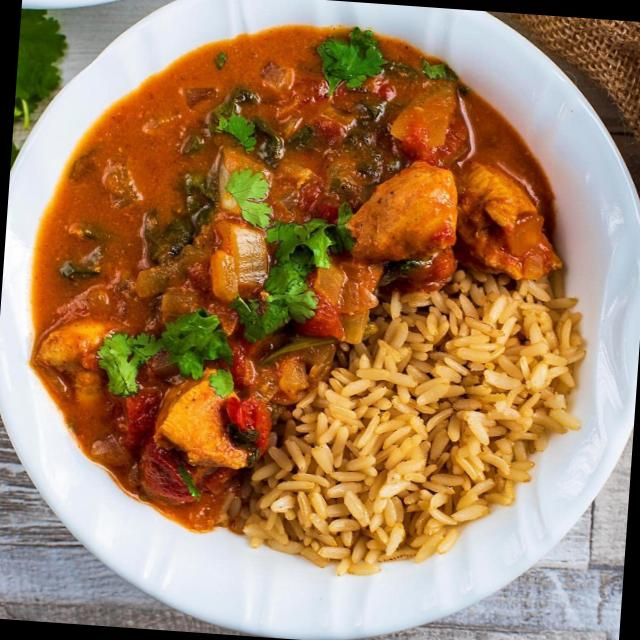chicken: (25, 3, 502, 470)
rice: (255, 300, 580, 577)
